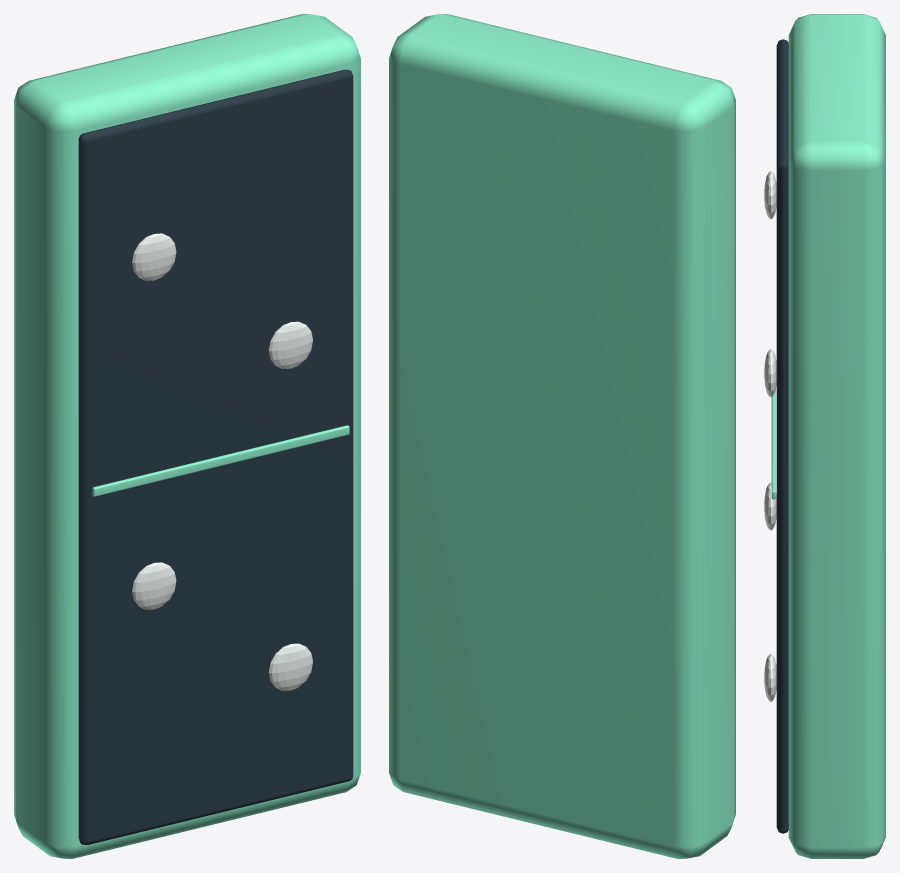
The model's file is domino.glb.
3 renders of one model, left to right at view 1: azimuth 30°, elevation 25°; view 2: azimuth 150°, elevation 25°; view 3: azimuth 270°, elevation 25°, orthographic. The views are drawn at different scales.
Parts seen in each view (by area): view 1: Domino front, Domino slab, Center divider, Domino pip, Domino pip.002, Domino pip.003, Domino pip.001; view 2: Domino slab; view 3: Domino slab, Domino front, Center divider, Domino pip, Domino pip.003, Domino pip.001, Domino pip.002.
Part boxes in pixels (x1=…): Domino front: x1=78, y1=69, x2=353, y2=844; Domino slab: x1=14, y1=14, x2=360, y2=858; Center divider: x1=92, y1=425, x2=349, y2=496; Domino pip: x1=132, y1=233, x2=176, y2=280; Domino pip.002: x1=132, y1=562, x2=176, y2=609; Domino pip.003: x1=268, y1=643, x2=312, y2=690; Domino pip.001: x1=268, y1=321, x2=312, y2=368; Domino slab: x1=389, y1=14, x2=735, y2=858; Domino slab: x1=788, y1=14, x2=885, y2=858; Domino front: x1=776, y1=39, x2=788, y2=833; Center divider: x1=771, y1=389, x2=775, y2=499; Domino pip: x1=764, y1=171, x2=776, y2=219; Domino pip.003: x1=764, y1=653, x2=776, y2=701; Domino pip.001: x1=764, y1=349, x2=776, y2=397; Domino pip.002: x1=764, y1=482, x2=776, y2=530.
Size of the model in its own units: 0.92 by 2.12 by 0.326.
